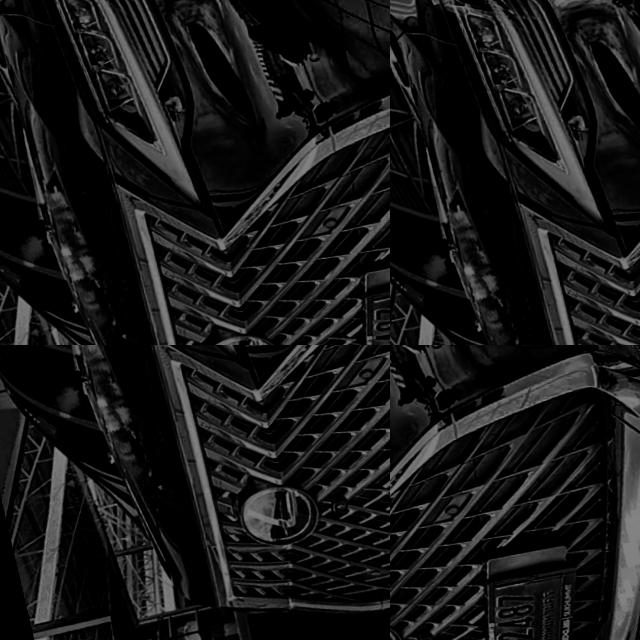license-plate: (452, 561, 594, 640)
